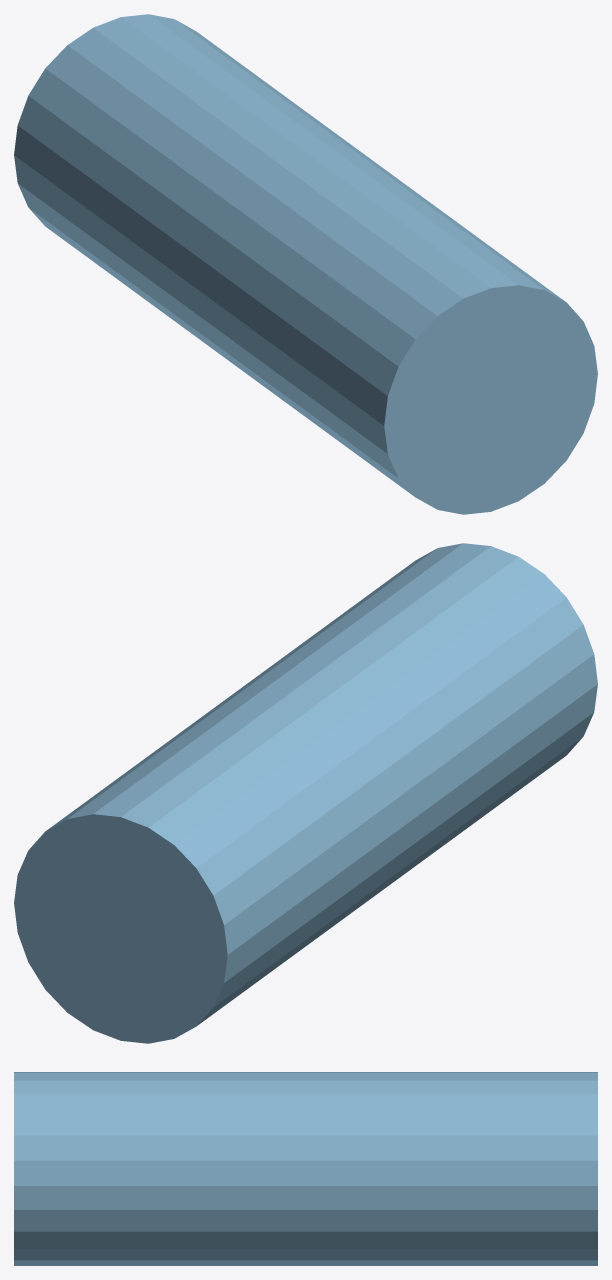
The picture shows the model from 3 angles, top to bottom: view 1: azimuth 30°, elevation 25°; view 2: azimuth 150°, elevation 25°; view 3: azimuth 270°, elevation 25°; orthographic projection. The views are drawn at different scales.
Parts seen in each view (by area): view 1: world; view 2: world; view 3: world.
Part boxes in pixels (left/top/right/bottom): world: left=14, top=14, right=597, bottom=514; world: left=14, top=543, right=597, bottom=1043; world: left=14, top=1072, right=597, bottom=1265.
Bounding box in the file's own units: 0.04 × 0.04 × 0.12.
